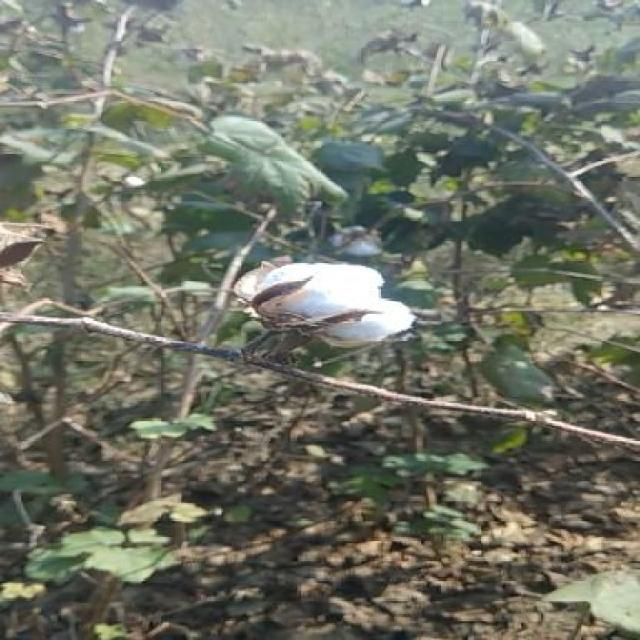cotton_ready: (209, 244, 428, 384)
